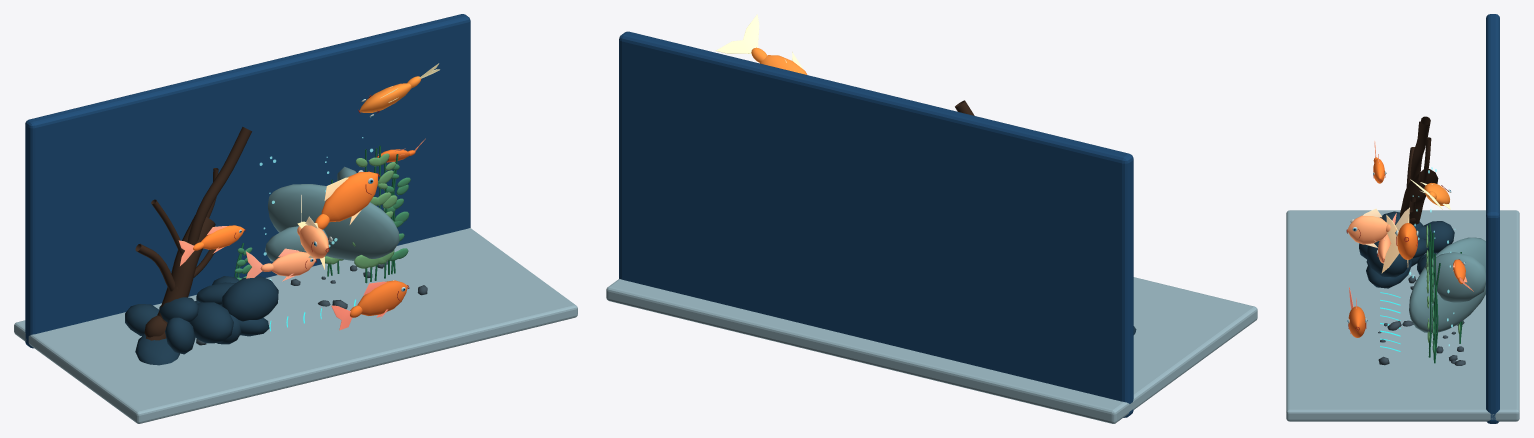
3 views of the same model, side by side, from view 1: azimuth 30°, elevation 25°; view 2: azimuth 150°, elevation 25°; view 3: azimuth 270°, elevation 25° (orthographic). The views are drawn at different scales.
Visible parts, largest first — view 1: Textured_Back_Wall.001, Sand_Bed.001, Pale_Decor_Main.001, Left_Foreground_Rock_09.001, Fish_B_Large_Turn_Body.001, Driftwood_Branch_00.001, Driftwood_Branch_01.001, Left_Foreground_Rock_11.001, Fish_E_Bottom_Crop_Body.001, Left_Foreground_Rock_06.001, Left_Foreground_Rock_08.001, Pale_Decor_Left.001 (+8 smaller); view 2: Textured_Back_Wall.001, Sand_Bed.001, Fish_F_Top_Partial_Tail_Fin.001; view 3: Sand_Bed.001, Textured_Back_Wall.001, Pale_Decor_Main.001, Pale_Decor_Top.001, Fish_C_Fancy_Foreground_Body.001, Driftwood_Branch_00.001, Left_Foreground_Rock_09.001, Driftwood_Branch_01.001, Fish_B_Large_Turn_Body.001, Left_Foreground_Rock_12.001, Left_Foreground_Rock_10.001, Fish_B_Large_Turn_Tail_Fin.001 (+7 smaller).
Boxes of the visible parts, x1=… form: Textured_Back_Wall.001: x1=25, y1=14, x2=470, y2=348; Sand_Bed.001: x1=14, y1=228, x2=577, y2=423; Pale_Decor_Main.001: x1=268, y1=184, x2=399, y2=260; Left_Foreground_Rock_09.001: x1=222, y1=276, x2=278, y2=321; Fish_B_Large_Turn_Body.001: x1=321, y1=171, x2=377, y2=222; Driftwood_Branch_00.001: x1=146, y1=215, x2=215, y2=340; Driftwood_Branch_01.001: x1=187, y1=127, x2=251, y2=245; Left_Foreground_Rock_11.001: x1=190, y1=302, x2=233, y2=343; Fish_E_Bottom_Crop_Body.001: x1=357, y1=280, x2=407, y2=315; Left_Foreground_Rock_06.001: x1=135, y1=334, x2=179, y2=365; Left_Foreground_Rock_08.001: x1=165, y1=317, x2=195, y2=354; Pale_Decor_Left.001: x1=265, y1=226, x2=329, y2=261; Textured_Back_Wall.001: x1=619, y1=31, x2=1133, y2=417; Sand_Bed.001: x1=606, y1=277, x2=1257, y2=423; Fish_F_Top_Partial_Tail_Fin.001: x1=716, y1=14, x2=759, y2=53; Sand_Bed.001: x1=1286, y1=210, x2=1519, y2=421; Textured_Back_Wall.001: x1=1486, y1=14, x2=1499, y2=423; Pale_Decor_Main.001: x1=1409, y1=237, x2=1485, y2=332; Pale_Decor_Top.001: x1=1425, y1=252, x2=1485, y2=303; Fish_C_Fancy_Foreground_Body.001: x1=1347, y1=215, x2=1387, y2=244; Driftwood_Branch_00.001: x1=1400, y1=169, x2=1438, y2=224; Left_Foreground_Rock_09.001: x1=1366, y1=241, x2=1410, y2=277; Driftwood_Branch_01.001: x1=1410, y1=116, x2=1430, y2=181; Fish_B_Large_Turn_Body.001: x1=1397, y1=223, x2=1417, y2=259; Left_Foreground_Rock_12.001: x1=1424, y1=221, x2=1454, y2=253; Left_Foreground_Rock_10.001: x1=1366, y1=259, x2=1412, y2=288; Fish_B_Large_Turn_Tail_Fin.001: x1=1381, y1=215, x2=1399, y2=273.
Bounding box in the file's own units: 18.8 × 9.25 × 9.2.
